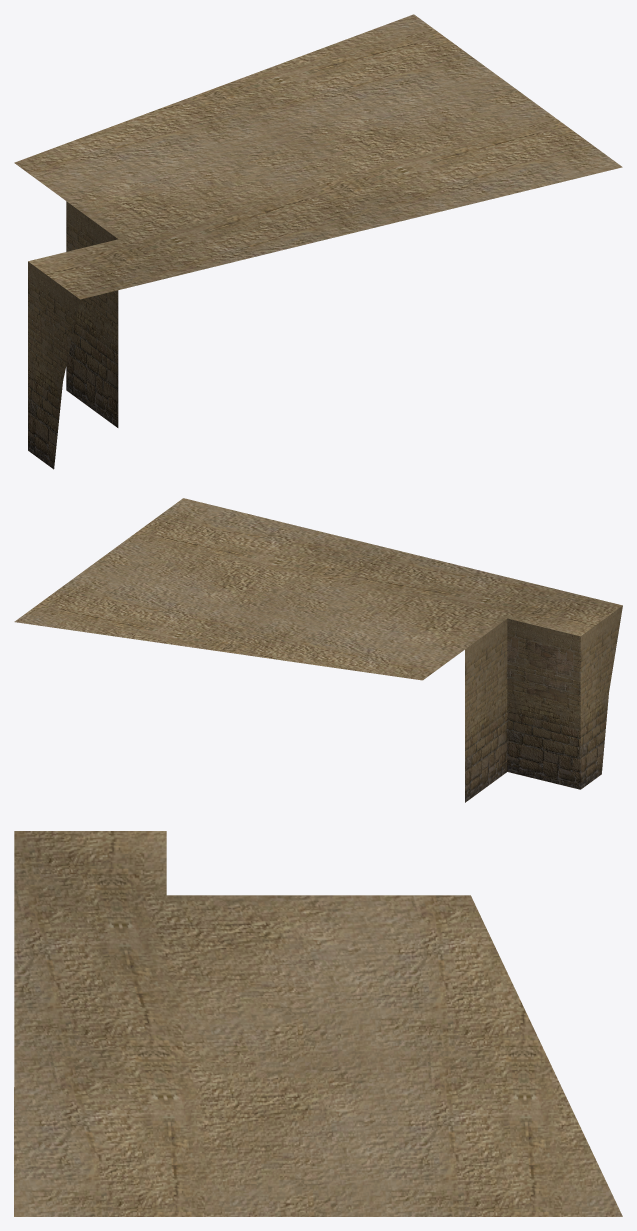
Rendered from M7Z4_FortWall4_A.glb.
3 renders of one model, top to bottom at view 1: azimuth 30°, elevation 25°; view 2: azimuth 150°, elevation 25°; view 3: azimuth 270°, elevation 25°, orthographic. The views are drawn at different scales.
Visible parts, largest first — view 1: M7Z4_FORTWALL4_A; view 2: M7Z4_FORTWALL4_A; view 3: M7Z4_FORTWALL4_A.
Part boxes in pixels (left/top/right/bottom): M7Z4_FORTWALL4_A: left=14, top=14, right=622, bottom=469; M7Z4_FORTWALL4_A: left=14, top=498, right=622, bottom=802; M7Z4_FORTWALL4_A: left=14, top=831, right=622, bottom=1216.
Size of the model in its own units: 24 by 8 by 16.01.
4 materials, 4 textured.
